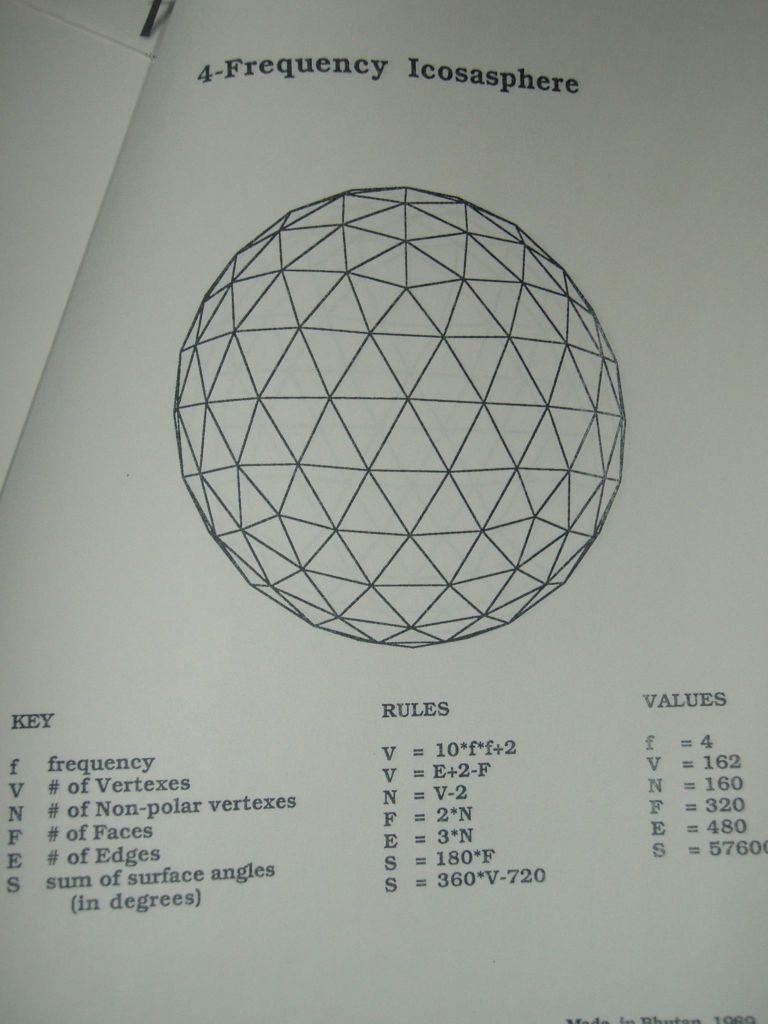Ball: (172, 185, 625, 648)
